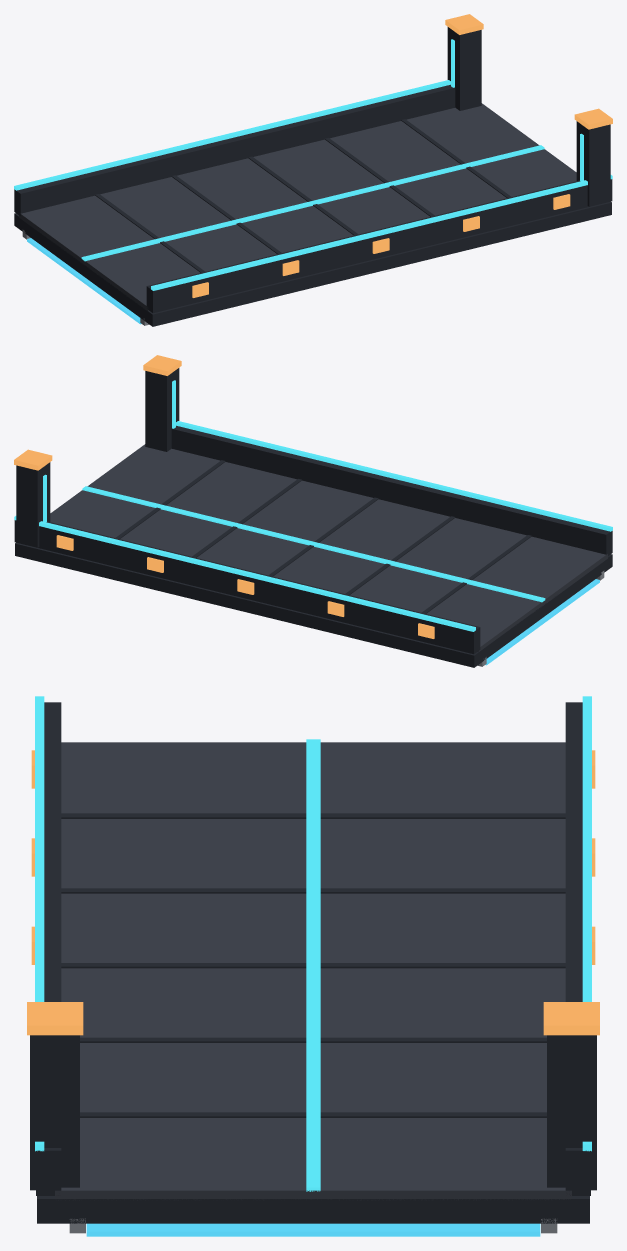
File: env_bridge_v2.glb
3 renders of one model, top to bottom at view 1: azimuth 30°, elevation 25°; view 2: azimuth 150°, elevation 25°; view 3: azimuth 270°, elevation 25°, orthographic. The views are drawn at different scales.
Parts seen in each view (by area): view 1: BR_Deck, BR_Rail+1, BR_Rail-1, BR_Base, BR_RailGlow-1, BR_RailGlow+1, BR_CenterStrip, BR_Pylon+1, BR_Pylon-1, BR_UnderGlow, BR_PylonCap+1, BR_PylonCap-1 (+5 smaller); view 2: BR_Deck, BR_Rail-1, BR_Rail+1, BR_Base, BR_RailGlow+1, BR_RailGlow-1, BR_CenterStrip, BR_Pylon-1, BR_Pylon+1, BR_UnderGlow, BR_PylonCap-1, BR_PylonCap+1 (+5 smaller); view 3: BR_Deck, BR_Base, BR_CenterStrip, BR_Pylon+1, BR_Pylon-1, BR_Rail-1, BR_Rail+1, BR_UnderGlow, BR_RailGlow-1, BR_RailGlow+1, BR_Seam0, BR_Seam1 (+5 smaller).
Boxes of the visible parts, x1,y1,x2,y2 form: BR_Deck: (19, 103, 576, 311); BR_Rail+1: (14, 84, 455, 216); BR_Rail-1: (146, 179, 612, 313); BR_Base: (14, 201, 611, 326); BR_RailGlow-1: (151, 175, 612, 290); BR_RailGlow+1: (14, 80, 450, 190); BR_CenterStrip: (81, 145, 544, 261); BR_Pylon+1: (447, 27, 481, 110); BR_Pylon-1: (576, 121, 610, 206); BR_UnderGlow: (27, 238, 141, 324); BR_PylonCap+1: (445, 14, 483, 34); BR_PylonCap-1: (574, 108, 612, 129); BR_Deck: (50, 444, 607, 652); BR_Rail-1: (171, 425, 612, 555); BR_Rail+1: (14, 520, 480, 654); BR_Base: (15, 542, 612, 667); BR_RailGlow+1: (14, 516, 475, 631); BR_RailGlow-1: (176, 421, 612, 531); BR_CenterStrip: (82, 486, 545, 602); BR_Pylon-1: (145, 368, 179, 451); BR_Pylon+1: (16, 462, 50, 547); BR_UnderGlow: (485, 579, 599, 665); BR_PylonCap-1: (143, 355, 181, 375); BR_PylonCap+1: (14, 449, 52, 470); BR_Deck: (55, 742, 571, 1200); BR_Base: (37, 1196, 589, 1223); BR_CenterStrip: (306, 739, 320, 1191); BR_Pylon+1: (547, 1035, 596, 1190); BR_Pylon-1: (30, 1035, 79, 1190); BR_Rail-1: (36, 702, 61, 1195); BR_Rail+1: (565, 702, 590, 1195); BR_UnderGlow: (86, 1223, 540, 1236); BR_RailGlow-1: (35, 696, 44, 1151); BR_RailGlow+1: (582, 696, 591, 1151); BR_Seam0: (61, 813, 565, 818); BR_Seam1: (61, 888, 565, 893).
Size of the model in its own units: 11.7 by 2.55 by 6.32.
